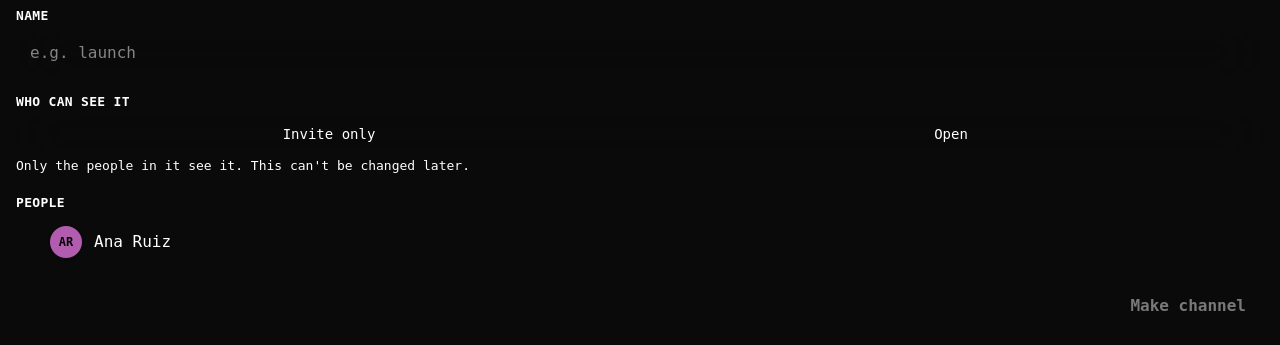
Test: Add to Home: New channel › Open is a choice; on timeout it says the desktop's line and adds nothing
Type "x" into the field with test id "new-channel-name" at (640, 52), box [30,40,1250,64]
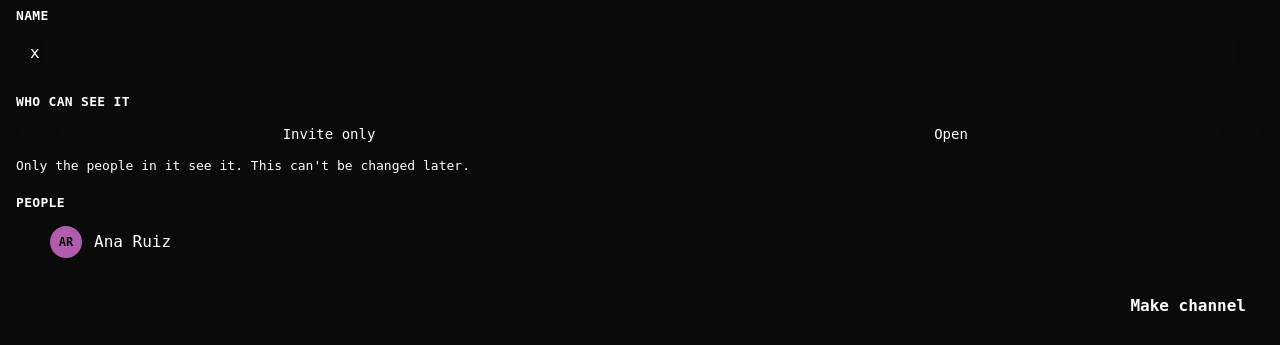
Click the button with test id "new-channel-privacy-open" at (951, 134), box [640,119,1262,149]
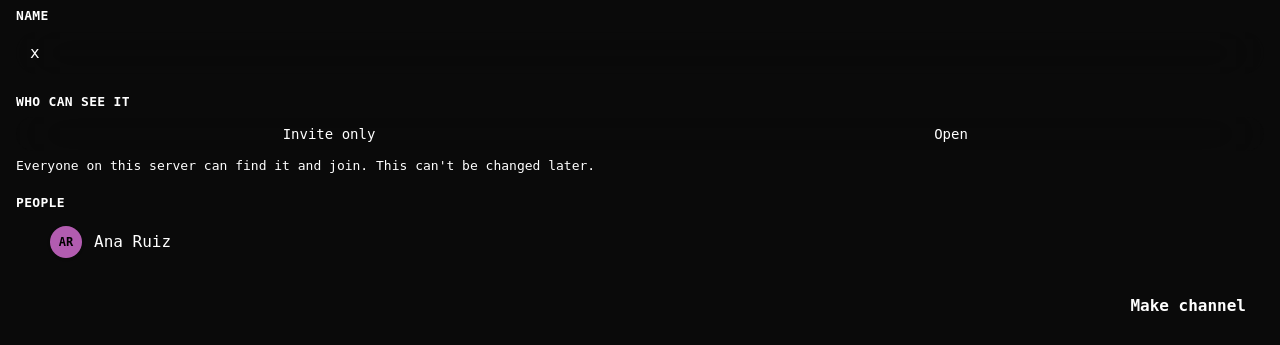
Now the text with test id "new-channel-privacy-hint" shows "Everyone on this server can find it and join.", box [16,158,368,173]
Click the button with test id "new-channel-create" at (1188, 306), box [1112,284,1264,328]
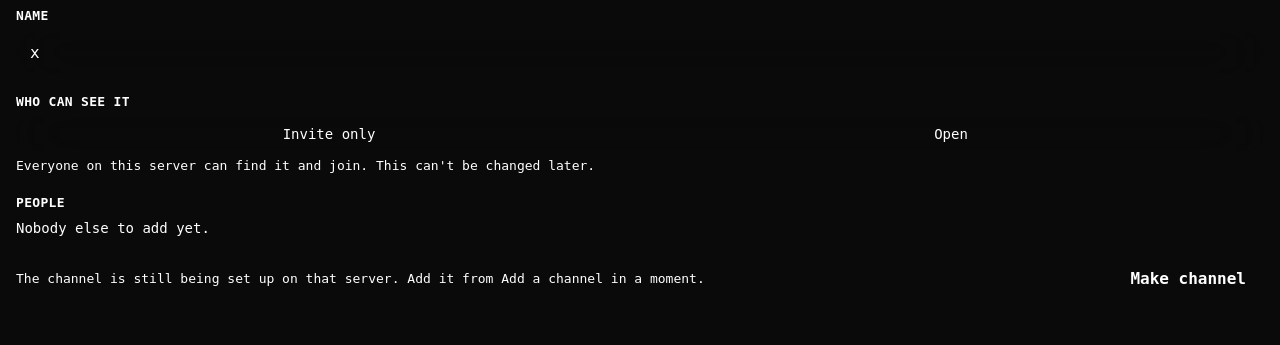
Now the message with test id "new-channel-state" shows "The channel is still being set up on that server. Add it from Add a channel in a moment.", box [16,271,705,286]
